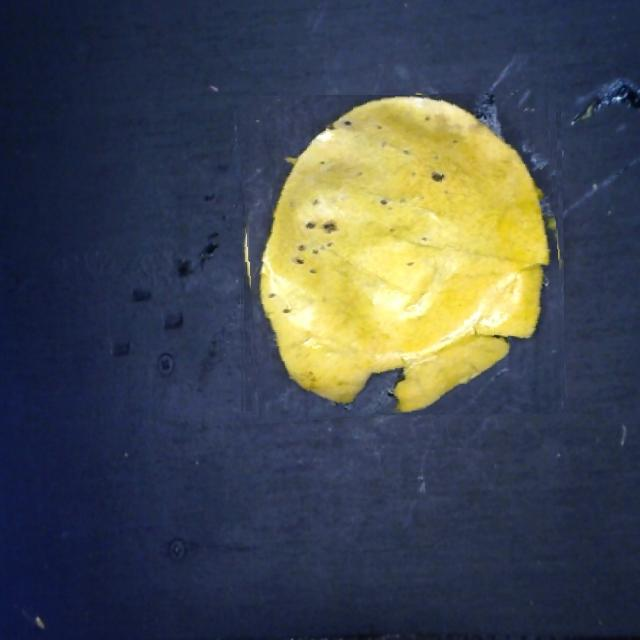biodegradable: (238, 93, 564, 419)
